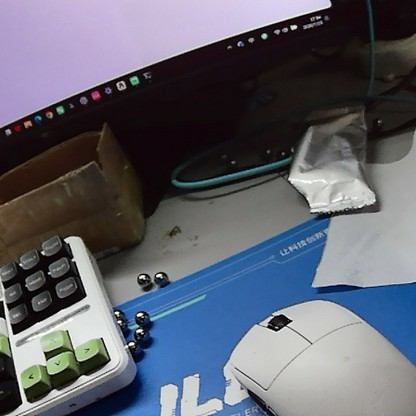ironball: (108, 308, 132, 334), (132, 269, 151, 291), (132, 306, 149, 327), (151, 266, 170, 283), (128, 324, 143, 343), (125, 341, 141, 358), (368, 113, 383, 131), (225, 153, 239, 170), (259, 144, 271, 157), (288, 143, 299, 154), (279, 148, 288, 160)
